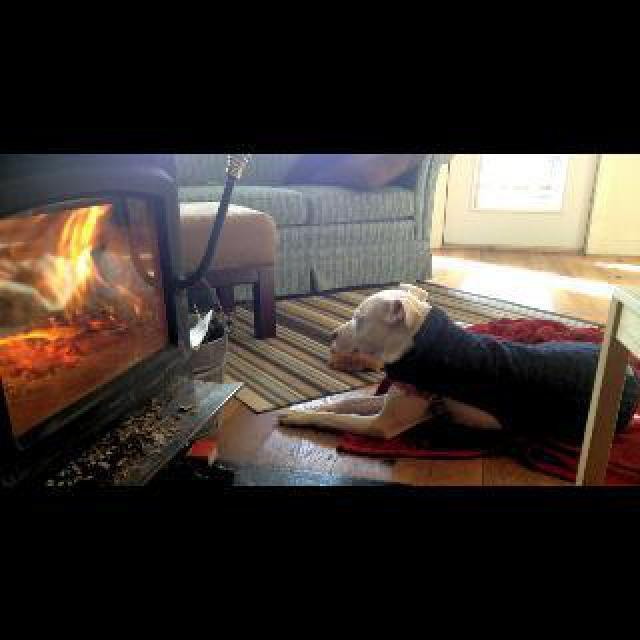Fire: (2, 200, 132, 364)
